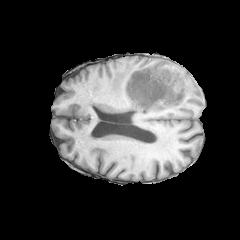glioma: (109, 57, 199, 115)
